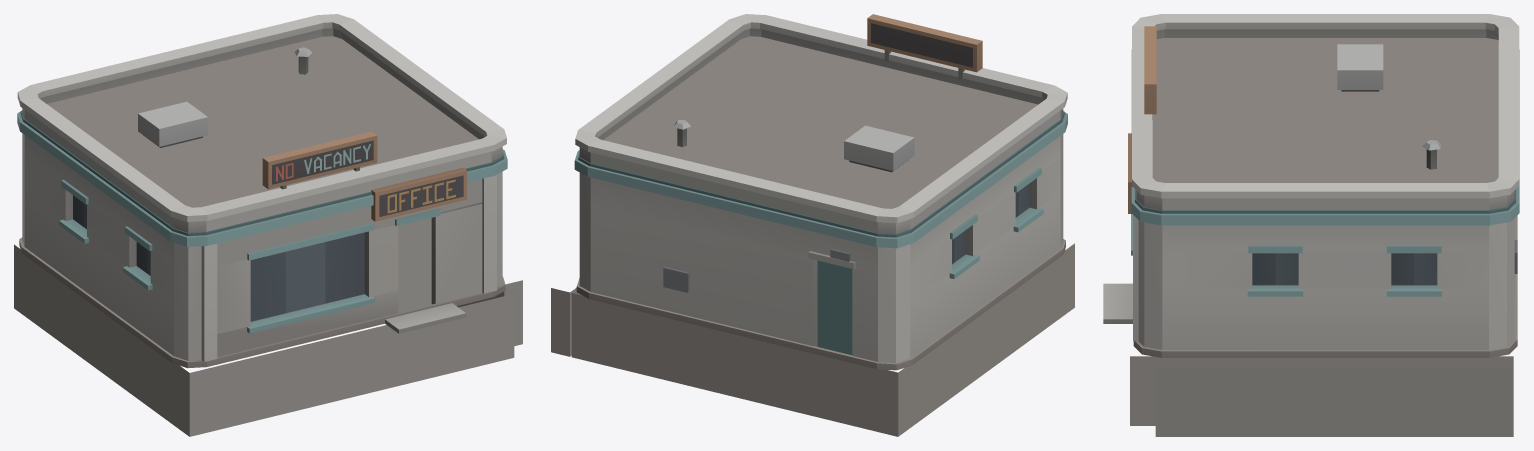
File: motel.lod1.glb
3 renders of one model, left to right at view 1: azimuth 30°, elevation 25°; view 2: azimuth 150°, elevation 25°; view 3: azimuth 270°, elevation 25°, orthographic. The views are drawn at different scales.
Bounding box in the file's own units: 8.59 × 5.84 × 8.1.
